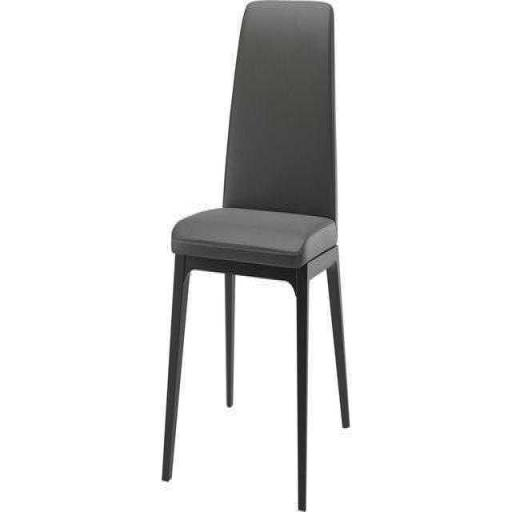chair: (160, 1, 351, 512)
